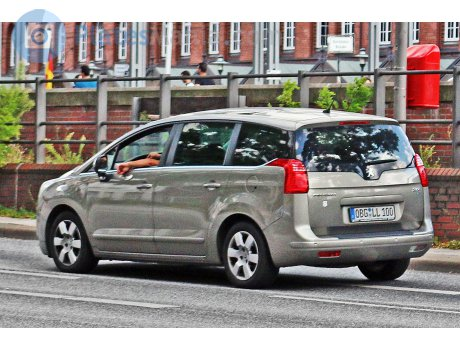License Plates: (356, 206, 391, 215)
